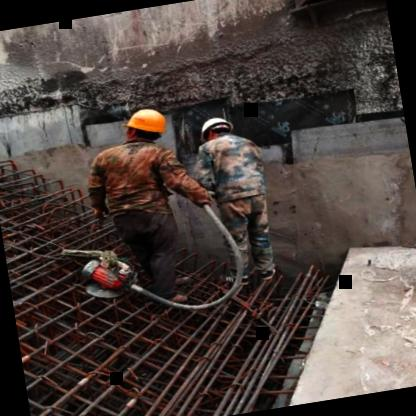helmet: (117, 102, 171, 152), (192, 112, 240, 152)
